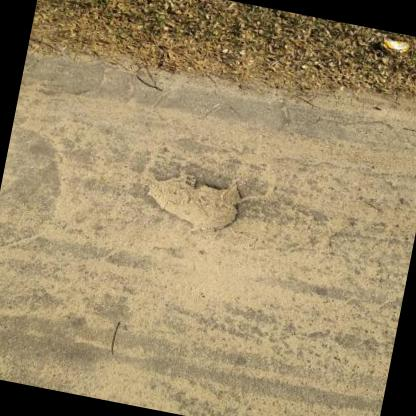pothole: (138, 160, 250, 235)
